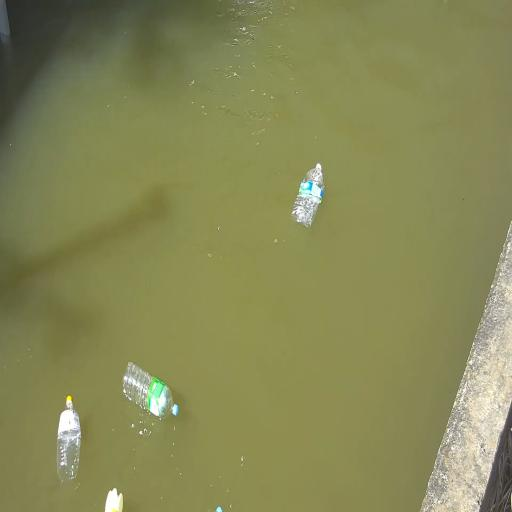plastic: (123, 363, 178, 417), (57, 395, 81, 482), (292, 164, 323, 227), (104, 485, 122, 512), (215, 503, 221, 512)
